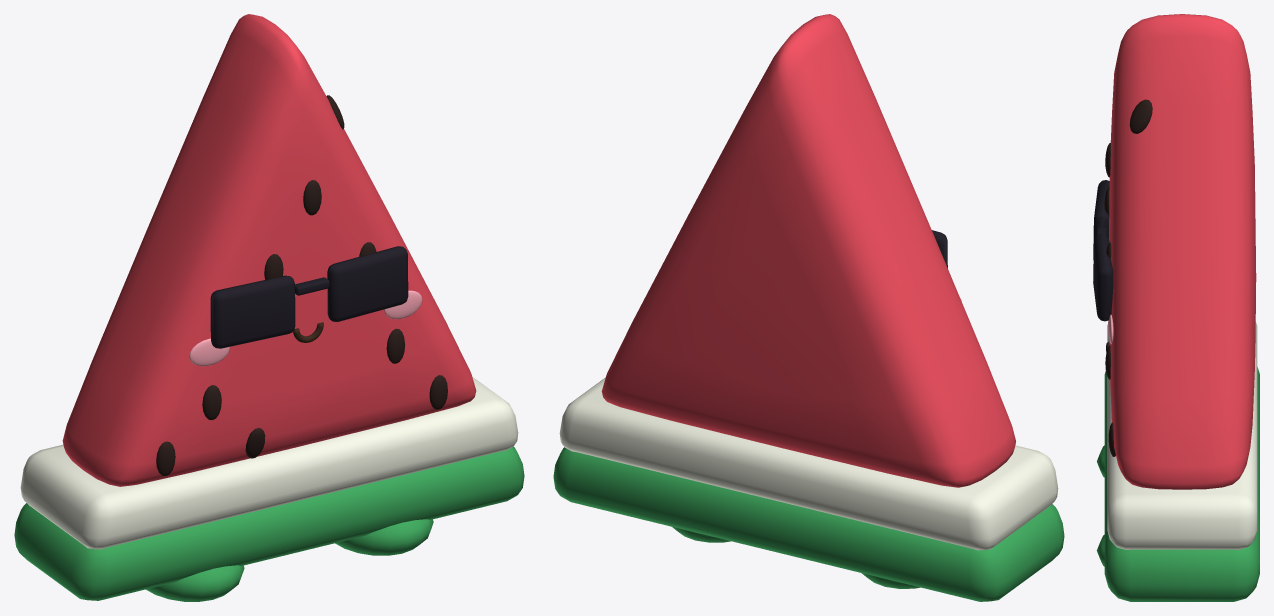
File: melon.glb
3 views of the same model, side by side, from view 1: azimuth 30°, elevation 25°; view 2: azimuth 150°, elevation 25°; view 3: azimuth 270°, elevation 25° (orthographic). The views are drawn at different scales.
Visible parts, largest first — view 1: melon; view 2: melon; view 3: melon.
Boxes of the visible parts, x1,y1,x2,y2 form: melon: [14, 14, 524, 601]; melon: [553, 14, 1064, 601]; melon: [1093, 14, 1259, 601].
Size of the model in its own units: 0.0808 by 0.0922 by 0.0269.
